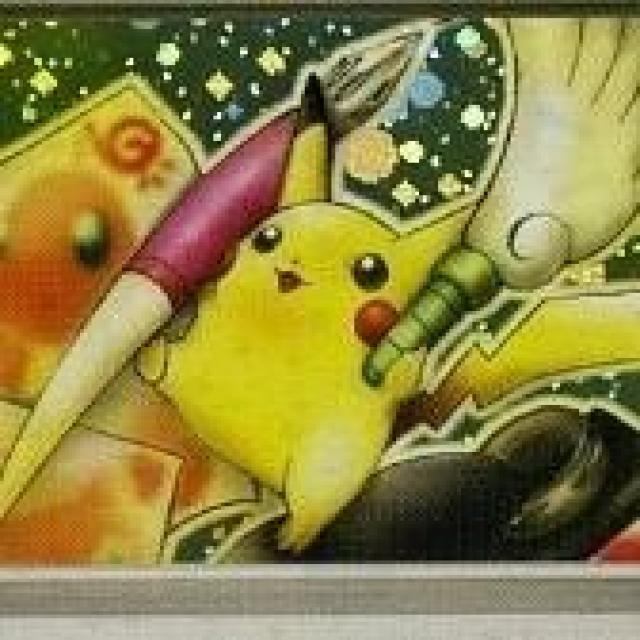pikachu: (134, 74, 522, 557)
